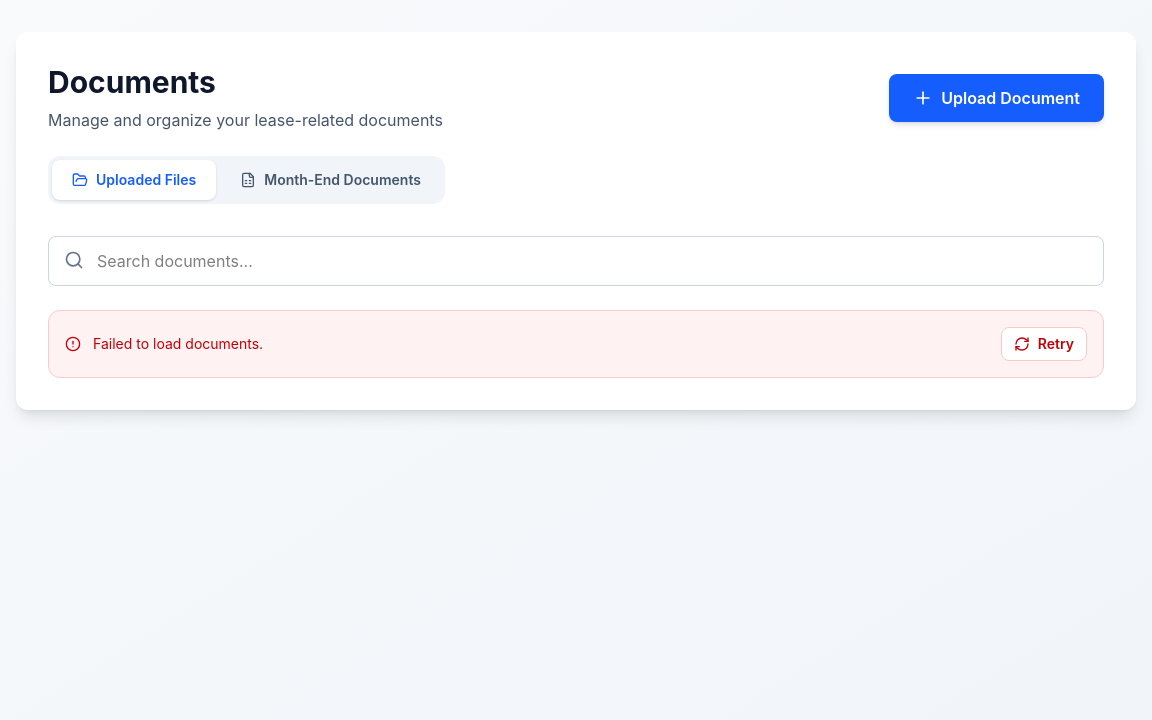
documents screen › shows an inline error with a working Retry instead of an empty file list
The width and height of the screenshot is (1152, 720).
Expected: the message "Failed to load documents. Retry" is shown, [48,310,1104,378]
Click the button "Retry" at (1044, 344), box [1001,327,1087,361]
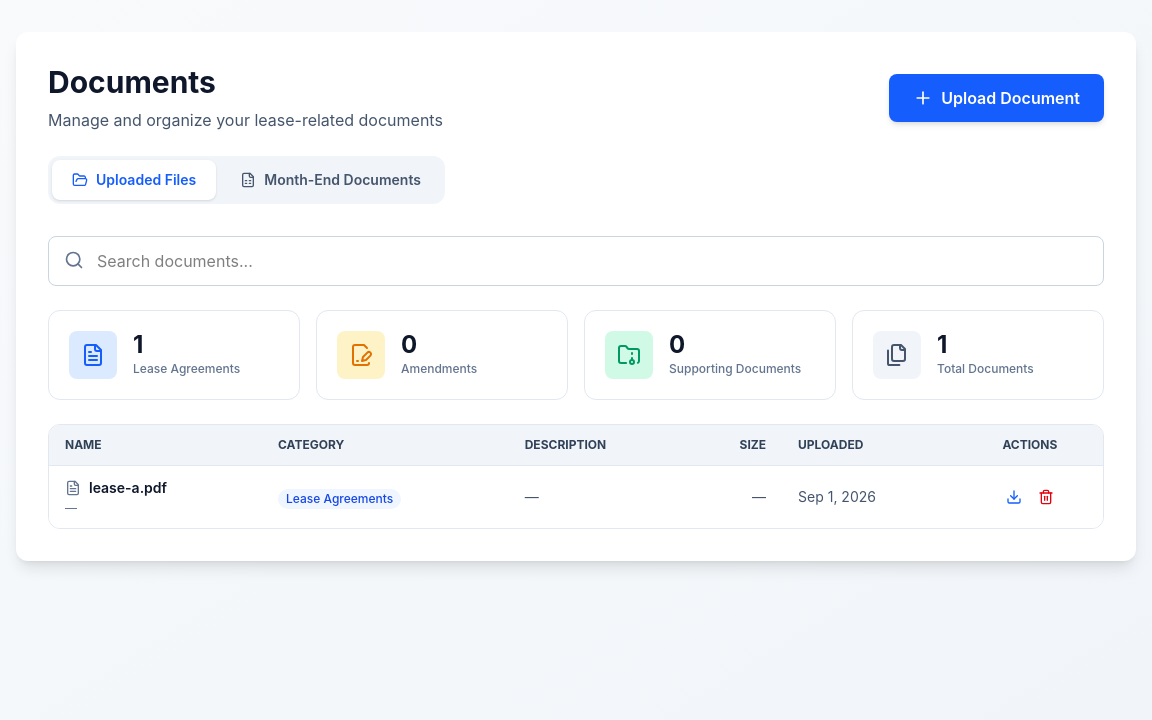
Now the text "lease-a.pdf" is shown, box [89,478,167,498]
